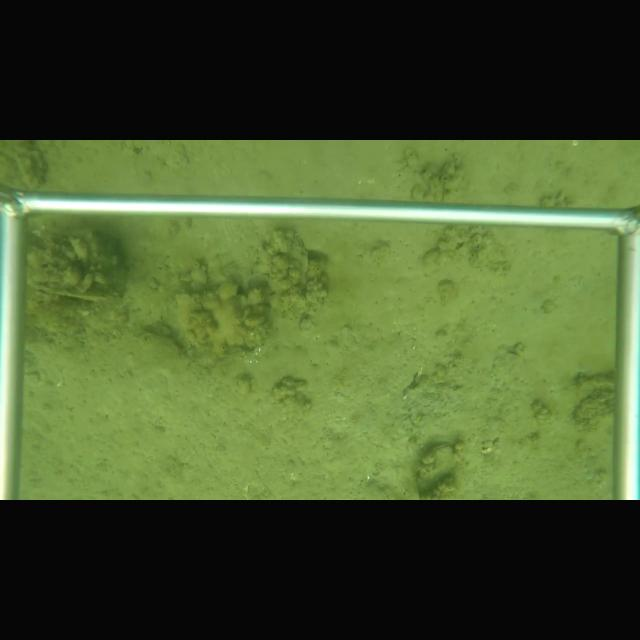Oyster-Closed: (267, 229, 313, 291), (29, 282, 119, 307), (417, 442, 460, 493)
